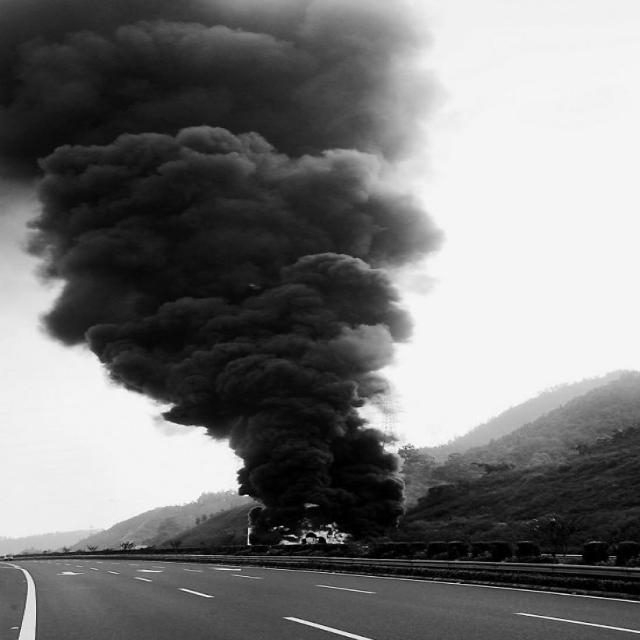Smoke: (1, 1, 449, 534)
